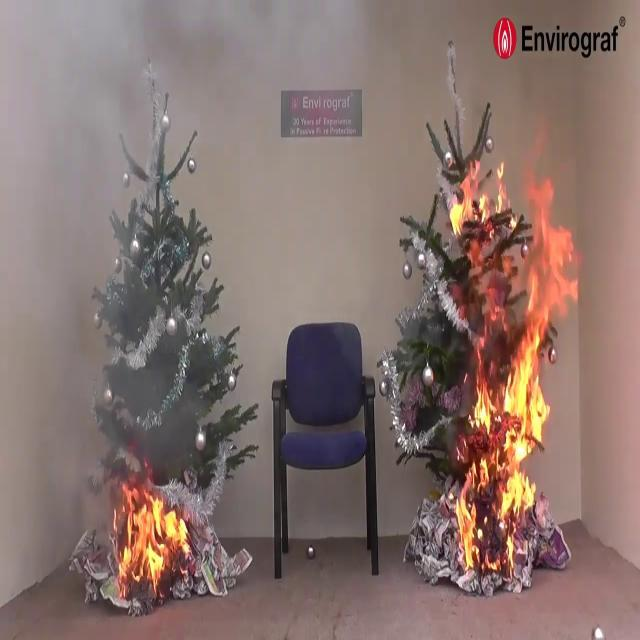Fire: (450, 152, 584, 570), (453, 350, 547, 574), (109, 482, 190, 592), (446, 160, 509, 240)
